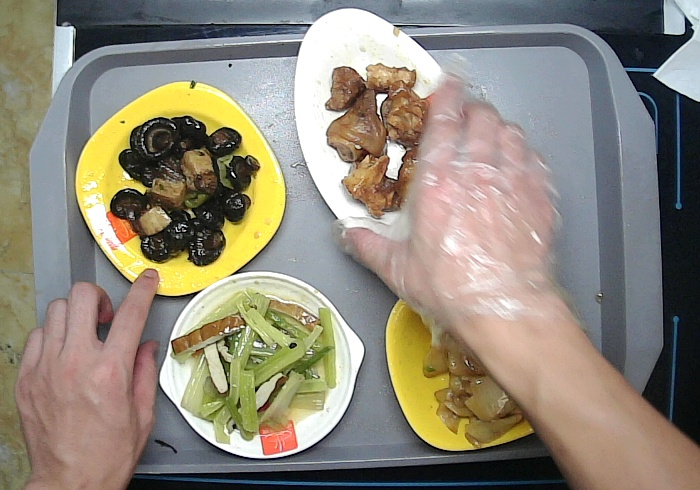SHKJ-Bao_Yu_Pan: (158, 269, 366, 459)
SHKJ-Huang_Se_Cai_Die: (382, 291, 541, 451)
SHKJ-Huang_Se_Si_Fang_Cai_Die: (72, 77, 290, 297)
SHKJ-Yu_Pan: (292, 6, 451, 241)
